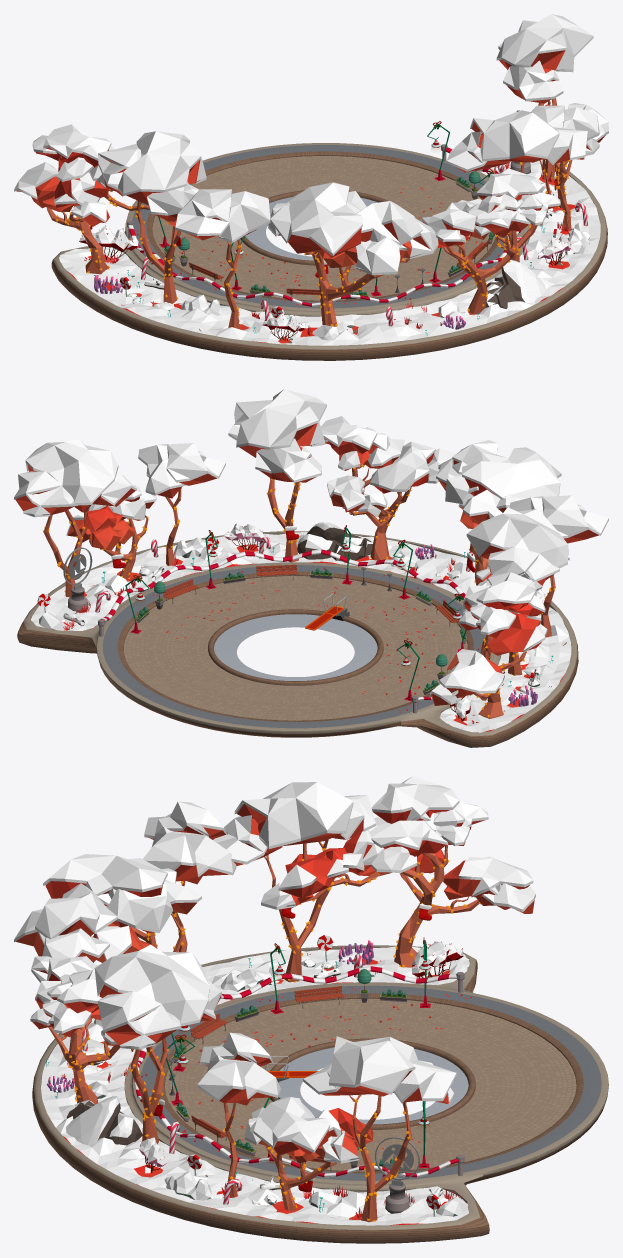
File: lobby_platform.glb
3 views of the same model, one above another, from view 1: azimuth 30°, elevation 25°; view 2: azimuth 150°, elevation 25°; view 3: azimuth 270°, elevation 25° (orthographic). The views are drawn at different scales.
Parts seen in each view (by area): view 1: Asian_Tree02.001, cloud_platform.002, cloud_platform.005, Asian_Tree02.007, Core_Rocks.016, cloud_platform.001, Core_Details.006, Core_Rocks.015, Core_Details.005, Icosphere.252, cloud_platform.003, Core_Details.004 (+1 smaller); view 2: cloud_platform.002, Asian_Tree02.001, Asian_Tree02.007, cloud_platform.005, cloud_platform.001, Core_Rocks.016, Core_Rocks.013, Core_Details.005, cloud_platform.003, Core_Rocks.015, Icosphere.252, Core_Details.006 (+1 smaller); view 3: cloud_platform.002, Asian_Tree02.001, Asian_Tree02.007, cloud_platform.005, Core_Rocks.016, cloud_platform.001, Core_Rocks.015, Icosphere.252, Core_Details.006, Core_Details.005, cloud_platform.003, Core_Rocks.013 (+1 smaller).
Part boxes in pixels (x1,y1,x2,y2): Asian_Tree02.001: (14, 14, 608, 275); cloud_platform.002: (51, 143, 607, 360); cloud_platform.005: (59, 159, 600, 345); Asian_Tree02.007: (16, 50, 605, 328); Core_Rocks.016: (127, 186, 590, 340); cloud_platform.001: (128, 147, 522, 306); Core_Details.006: (79, 226, 570, 330); Core_Rocks.015: (486, 260, 545, 305); Core_Details.005: (84, 171, 569, 343); Icosphere.252: (55, 160, 571, 326); cloud_platform.003: (59, 176, 591, 343); Core_Details.004: (79, 163, 570, 340); cloud_platform.002: (17, 531, 578, 747); Asian_Tree02.001: (14, 389, 608, 704); Asian_Tree02.007: (15, 423, 598, 718); cloud_platform.005: (31, 532, 571, 732); cloud_platform.001: (101, 549, 465, 700); Core_Rocks.016: (39, 537, 566, 690); Core_Rocks.013: (297, 526, 372, 561); Core_Details.005: (63, 542, 553, 723); cloud_platform.003: (63, 544, 564, 731); Core_Rocks.015: (297, 522, 372, 553); Icosphere.252: (43, 463, 555, 717); Core_Details.006: (224, 523, 547, 718); cloud_platform.002: (32, 945, 608, 1243); Asian_Tree02.001: (14, 776, 535, 1163); Asian_Tree02.007: (15, 804, 534, 1222); cloud_platform.005: (41, 946, 469, 1225); Core_Rocks.016: (71, 959, 467, 1218); cloud_platform.001: (134, 966, 458, 1177); Core_Rocks.015: (65, 1096, 137, 1145); Icosphere.252: (63, 844, 481, 1221); Core_Details.006: (139, 941, 463, 1165); Core_Details.005: (46, 940, 462, 1218); cloud_platform.003: (63, 959, 455, 1225); Core_Rocks.013: (66, 1101, 142, 1145).
Size of what is drawn, in the model's own units: 48.47 by 15.81 by 39.86.
71 materials, 71 textured.
